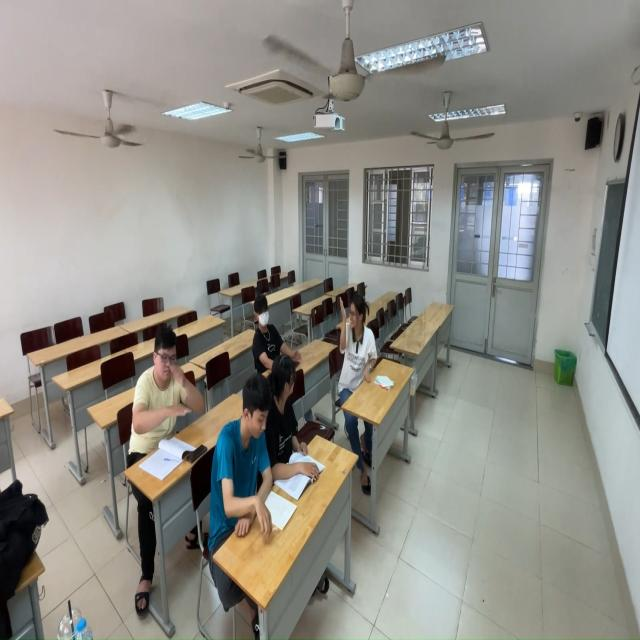raise_hand: (335, 286, 384, 404)
read: (211, 375, 274, 539), (128, 329, 202, 463), (261, 347, 311, 489), (252, 290, 296, 368)
